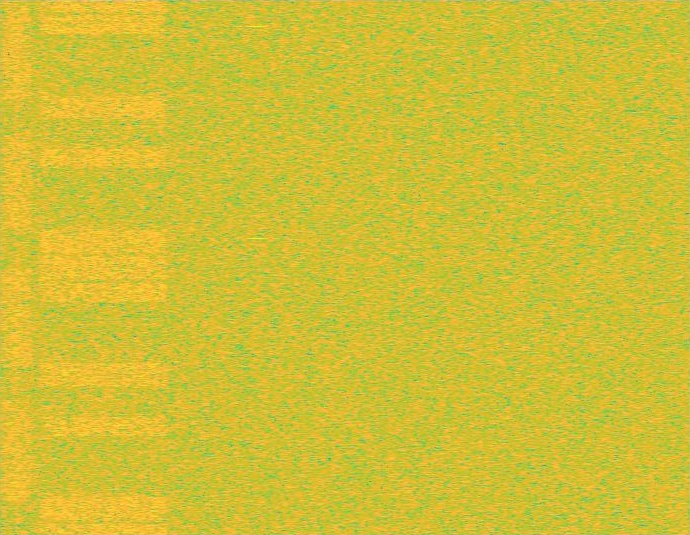5G: (0, 0, 35, 534)
DSSS: (15, 0, 20, 534)
LTE: (35, 0, 173, 534)
Radar: (251, 0, 264, 534)
